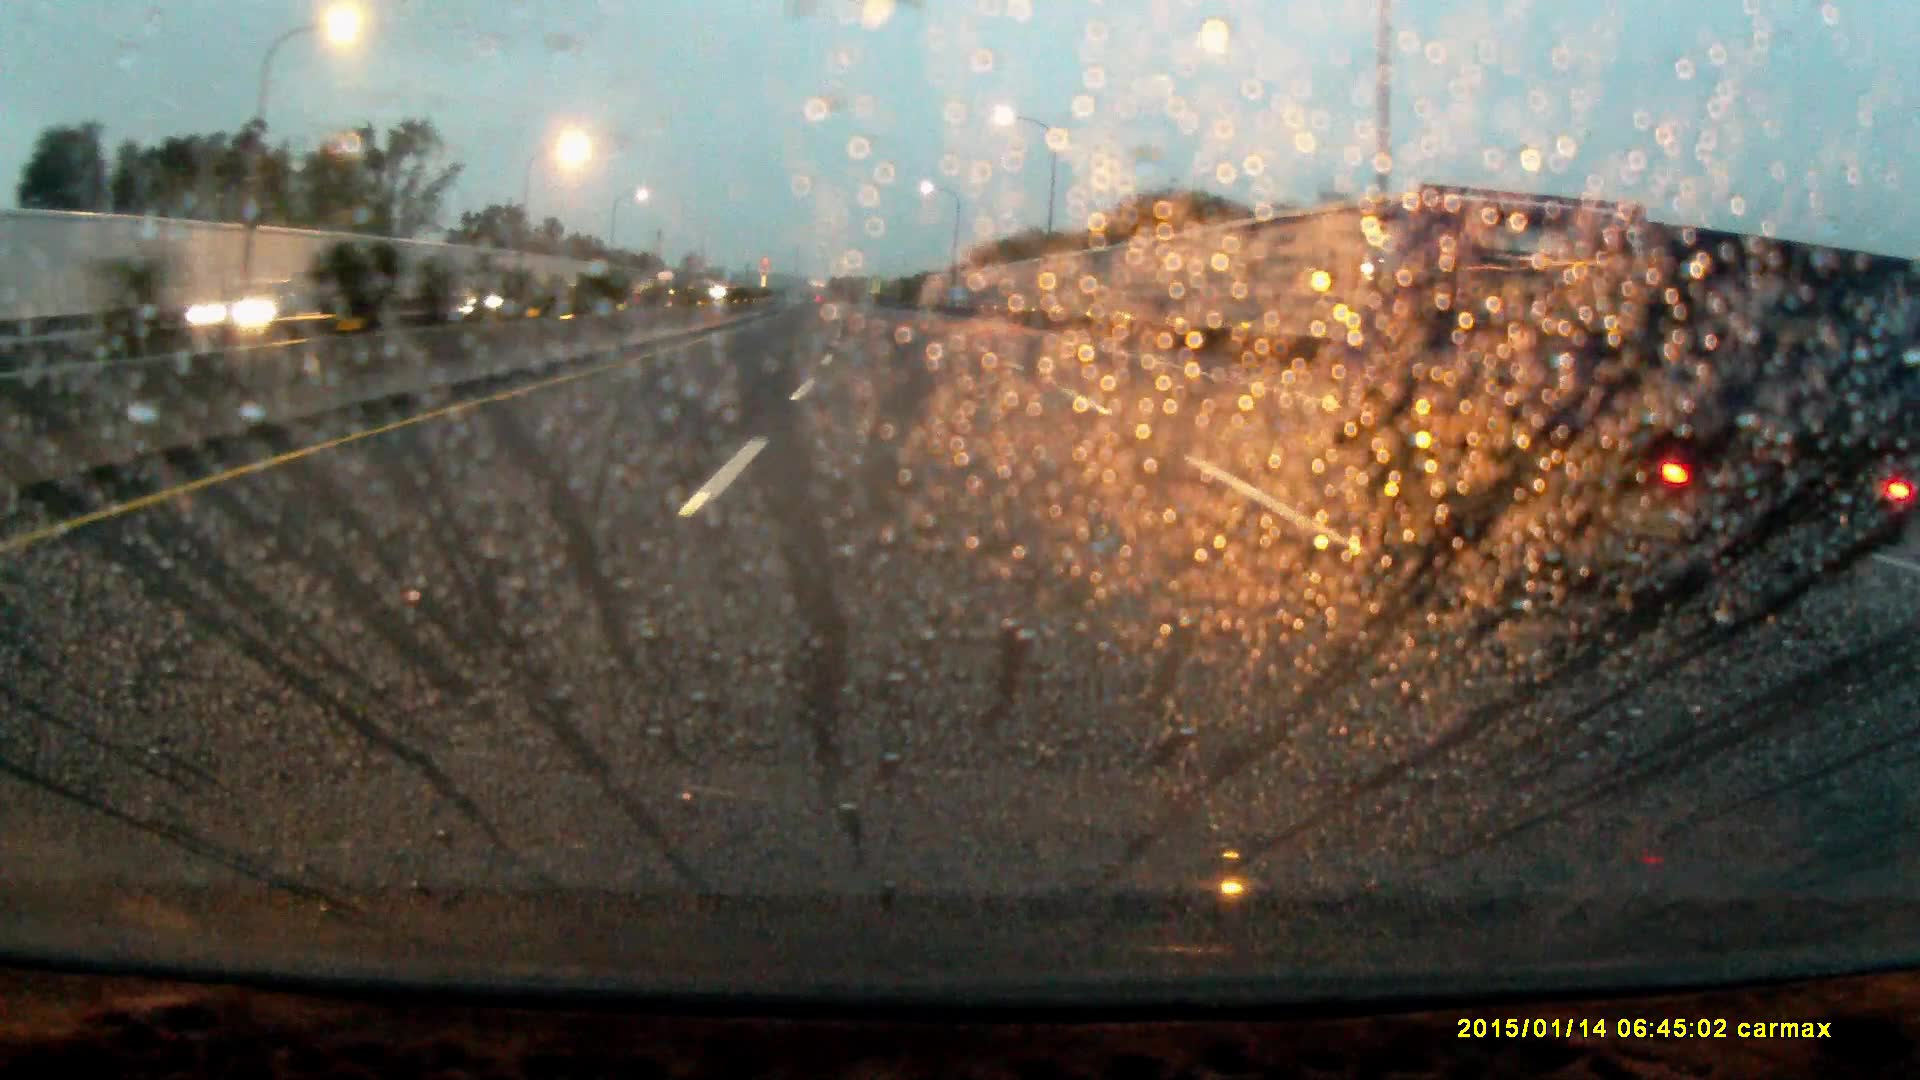vehicle: (1307, 189, 1895, 616), (183, 277, 311, 328), (446, 266, 524, 316), (657, 270, 680, 301)
